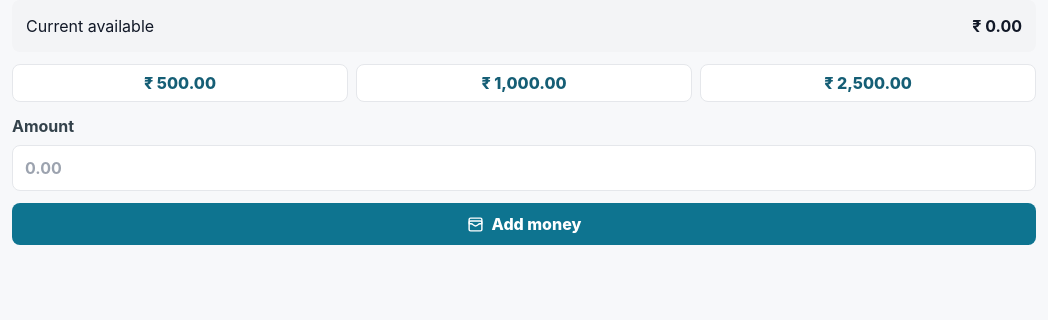
Test: LoadBalanceForm › clears stale amount errors when the amount field is focused
Click the button "Add money" at x=524, y=224, box [12,203,1036,245]
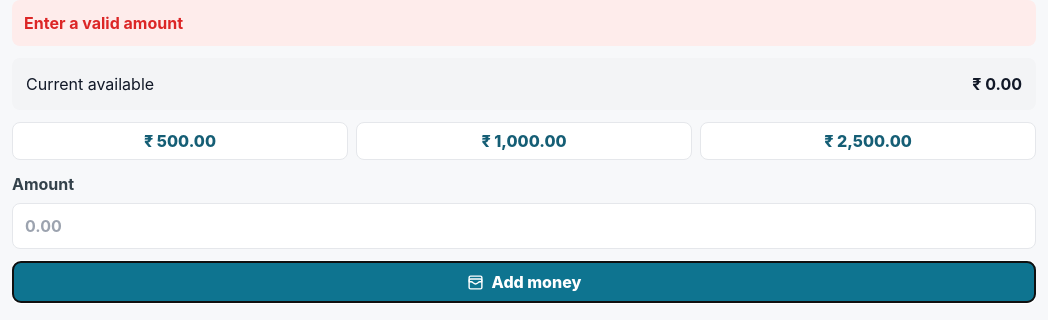
Now the text "Enter a valid amount" is shown, box [12,0,1036,46]
Click the field labelled "Amount" at x=524, y=226, box [12,203,1036,249]
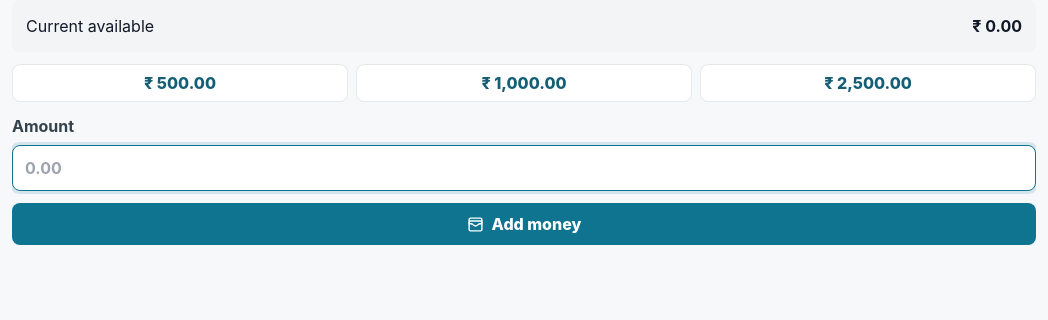
Now the text "Enter a valid amount" is gone
